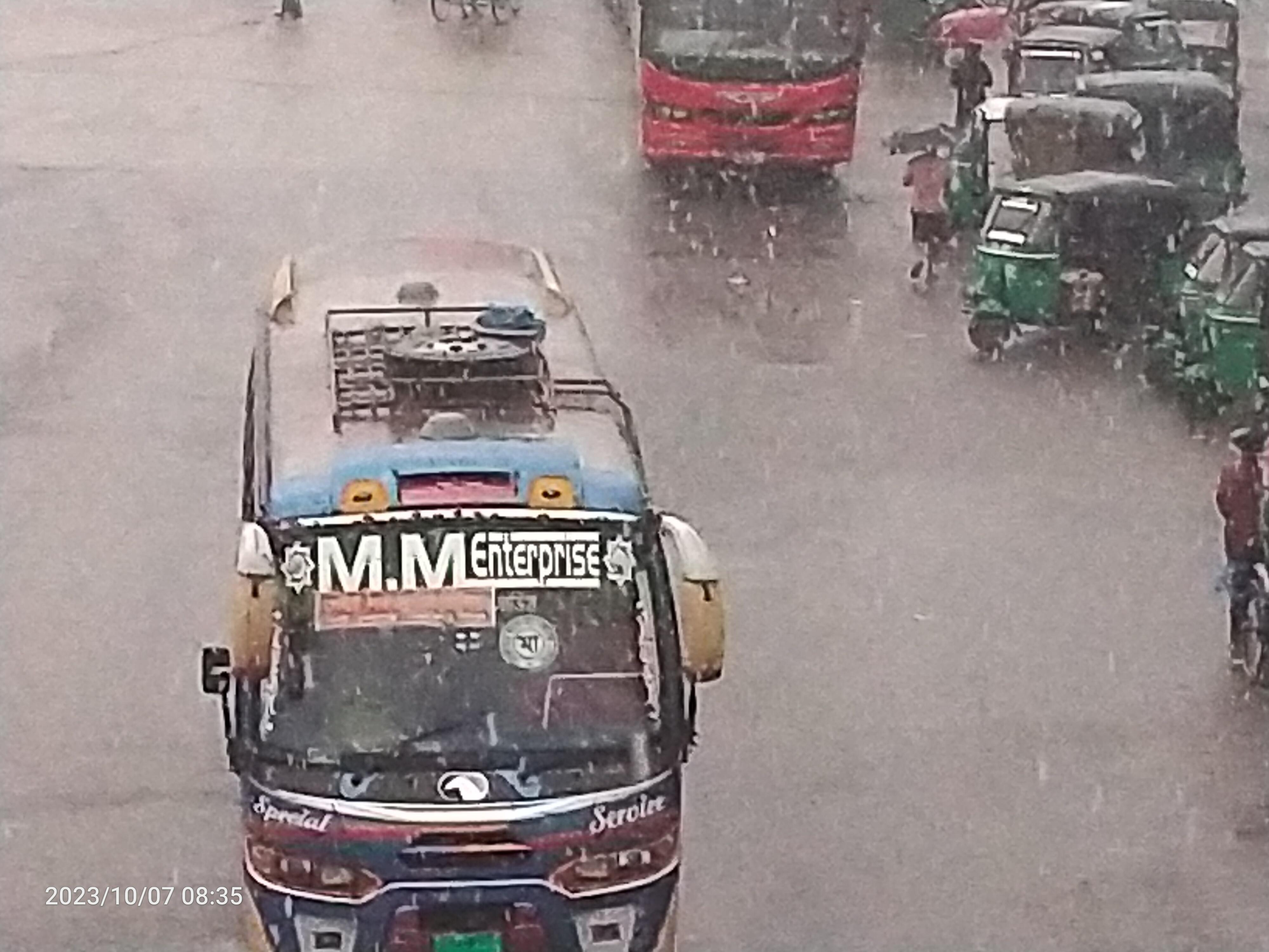Bus: (147, 184, 801, 952), (580, 0, 898, 213)
Car: (412, 0, 556, 50)
